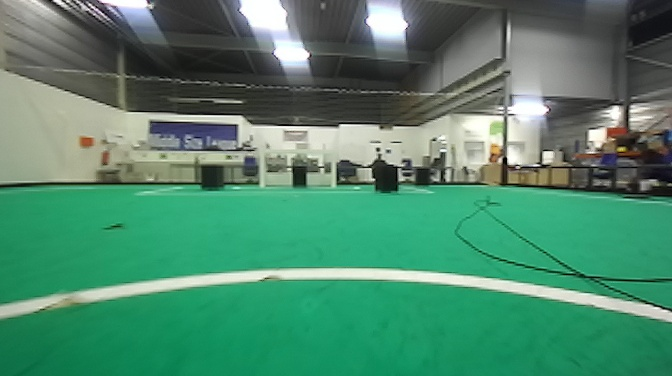goalpost: (328, 148, 341, 189), (254, 149, 267, 188)
